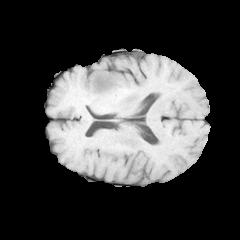glioma: (91, 71, 120, 95)
